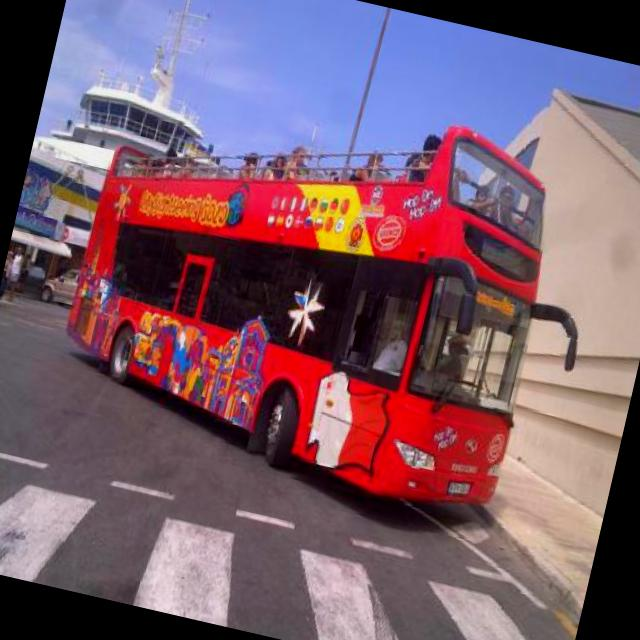Person: (124, 90, 474, 255), (483, 180, 526, 232), (466, 181, 519, 222), (433, 332, 474, 385), (405, 128, 443, 182), (371, 324, 411, 374), (4, 245, 28, 304), (282, 144, 312, 183), (263, 150, 289, 184), (16, 250, 34, 294), (237, 150, 260, 182), (1, 248, 17, 280), (162, 150, 178, 178), (177, 158, 195, 179)
